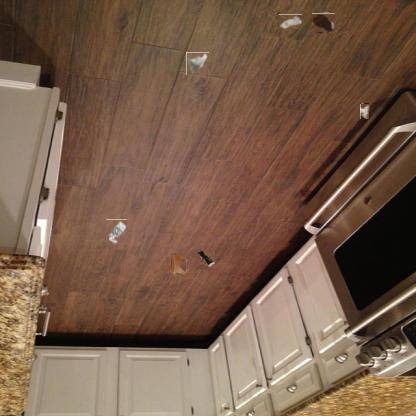dirty: (105, 219, 127, 244), (186, 52, 209, 75), (196, 250, 216, 270), (278, 14, 302, 29), (360, 103, 369, 119)
liquid: (313, 12, 334, 33), (168, 256, 188, 276)
